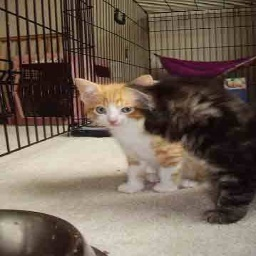cat: (69, 75, 256, 225)
